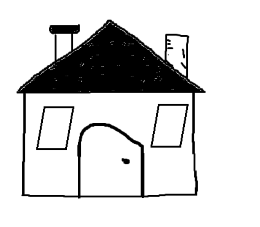chimney: (158, 27, 198, 78), (44, 22, 84, 60)
door: (75, 120, 148, 205)
open_window: (34, 98, 80, 158), (147, 97, 191, 157)
shaded_roof: (12, 14, 216, 99)
wall: (17, 89, 202, 201)
